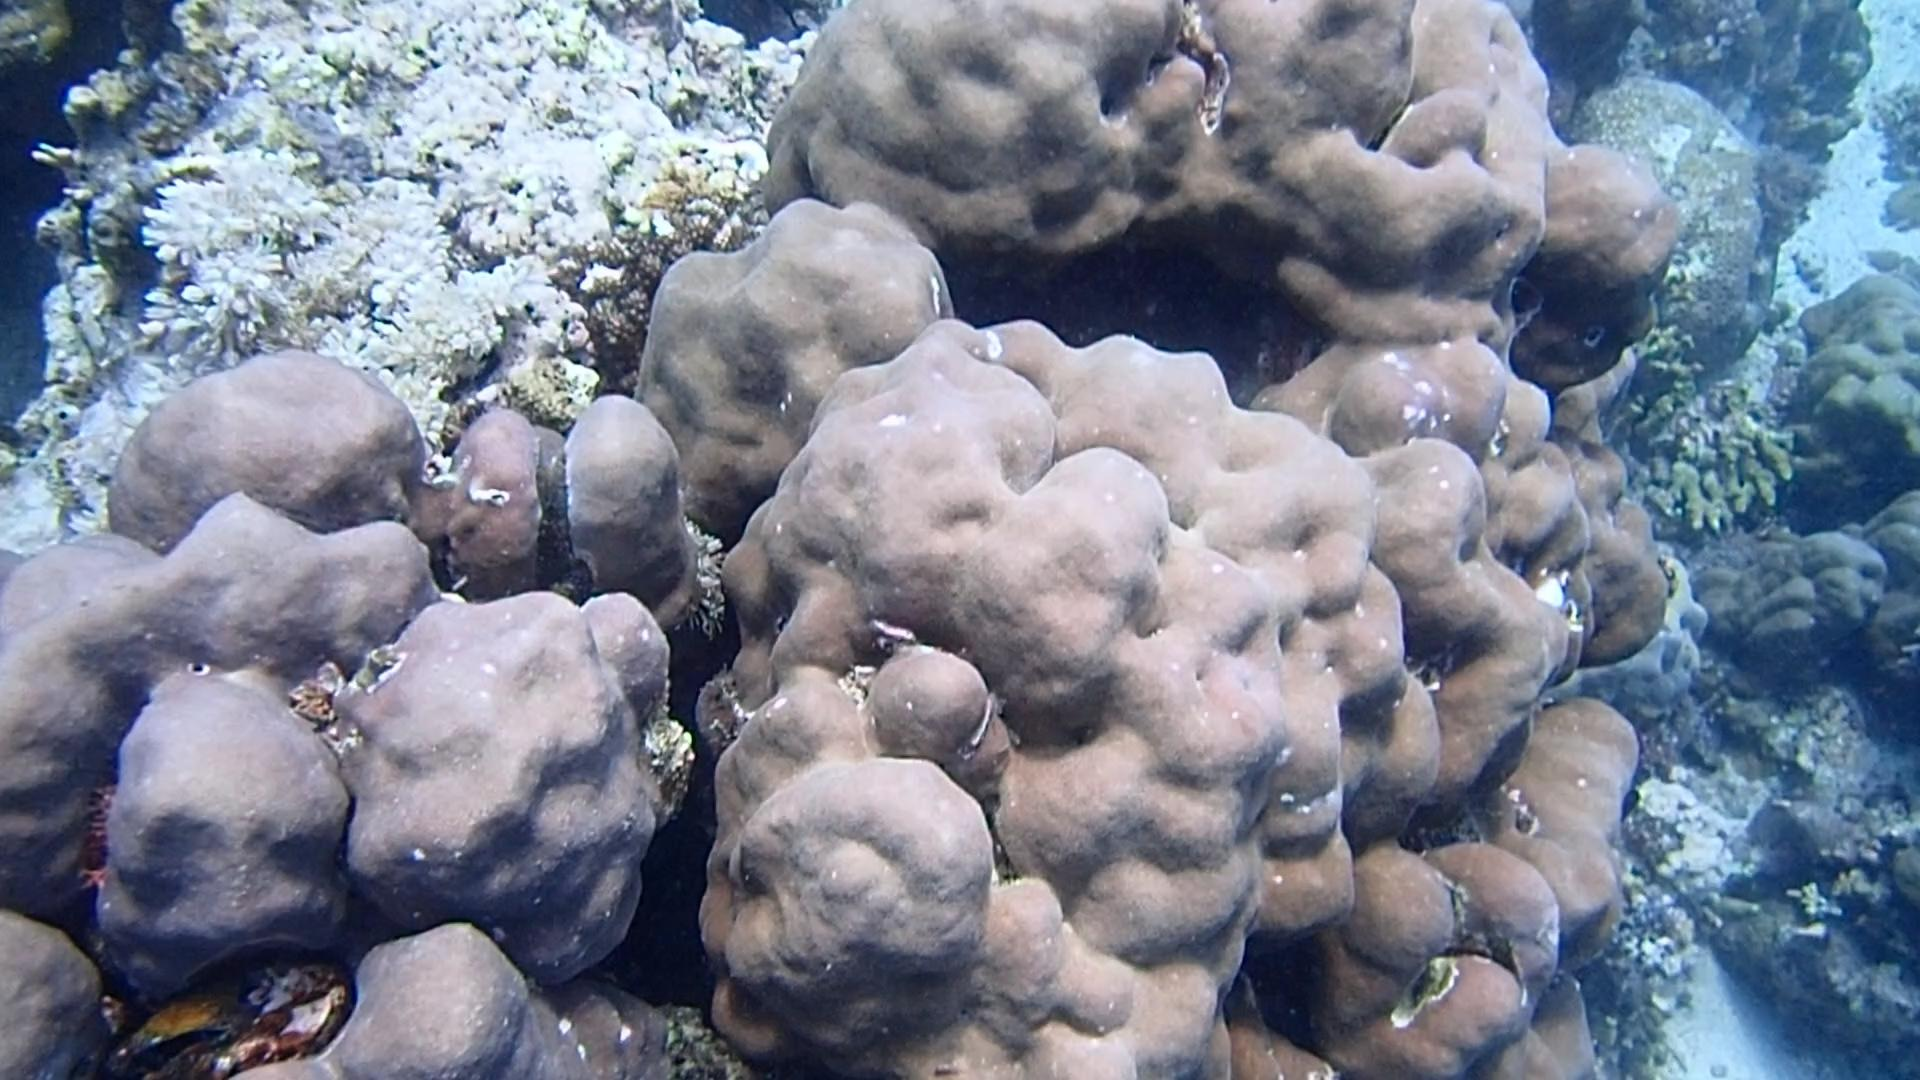Dark Fish: (1613, 771, 1656, 832)
